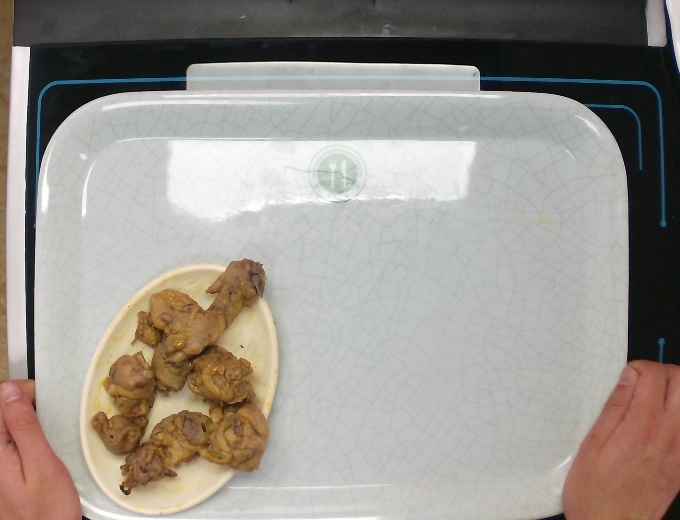JYsf-Tuo_Yuan_Wan: (67, 248, 287, 518)
